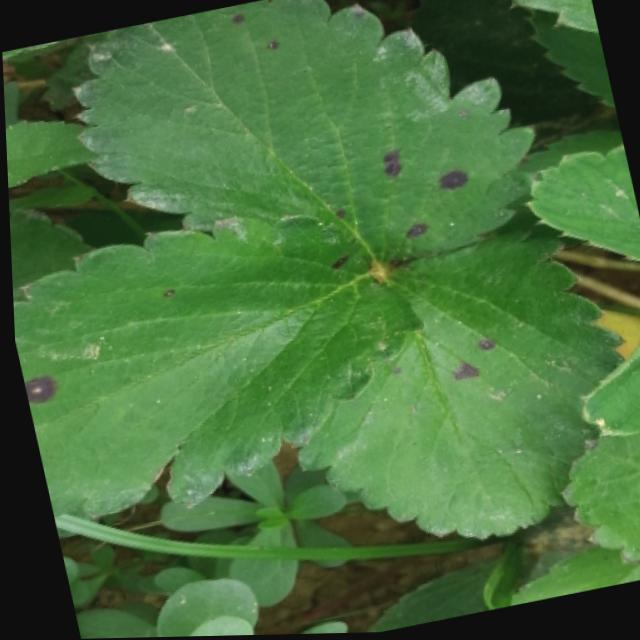Leaf Spot: (66, 0, 533, 273), (11, 212, 418, 522), (289, 214, 625, 544), (553, 343, 640, 572)
